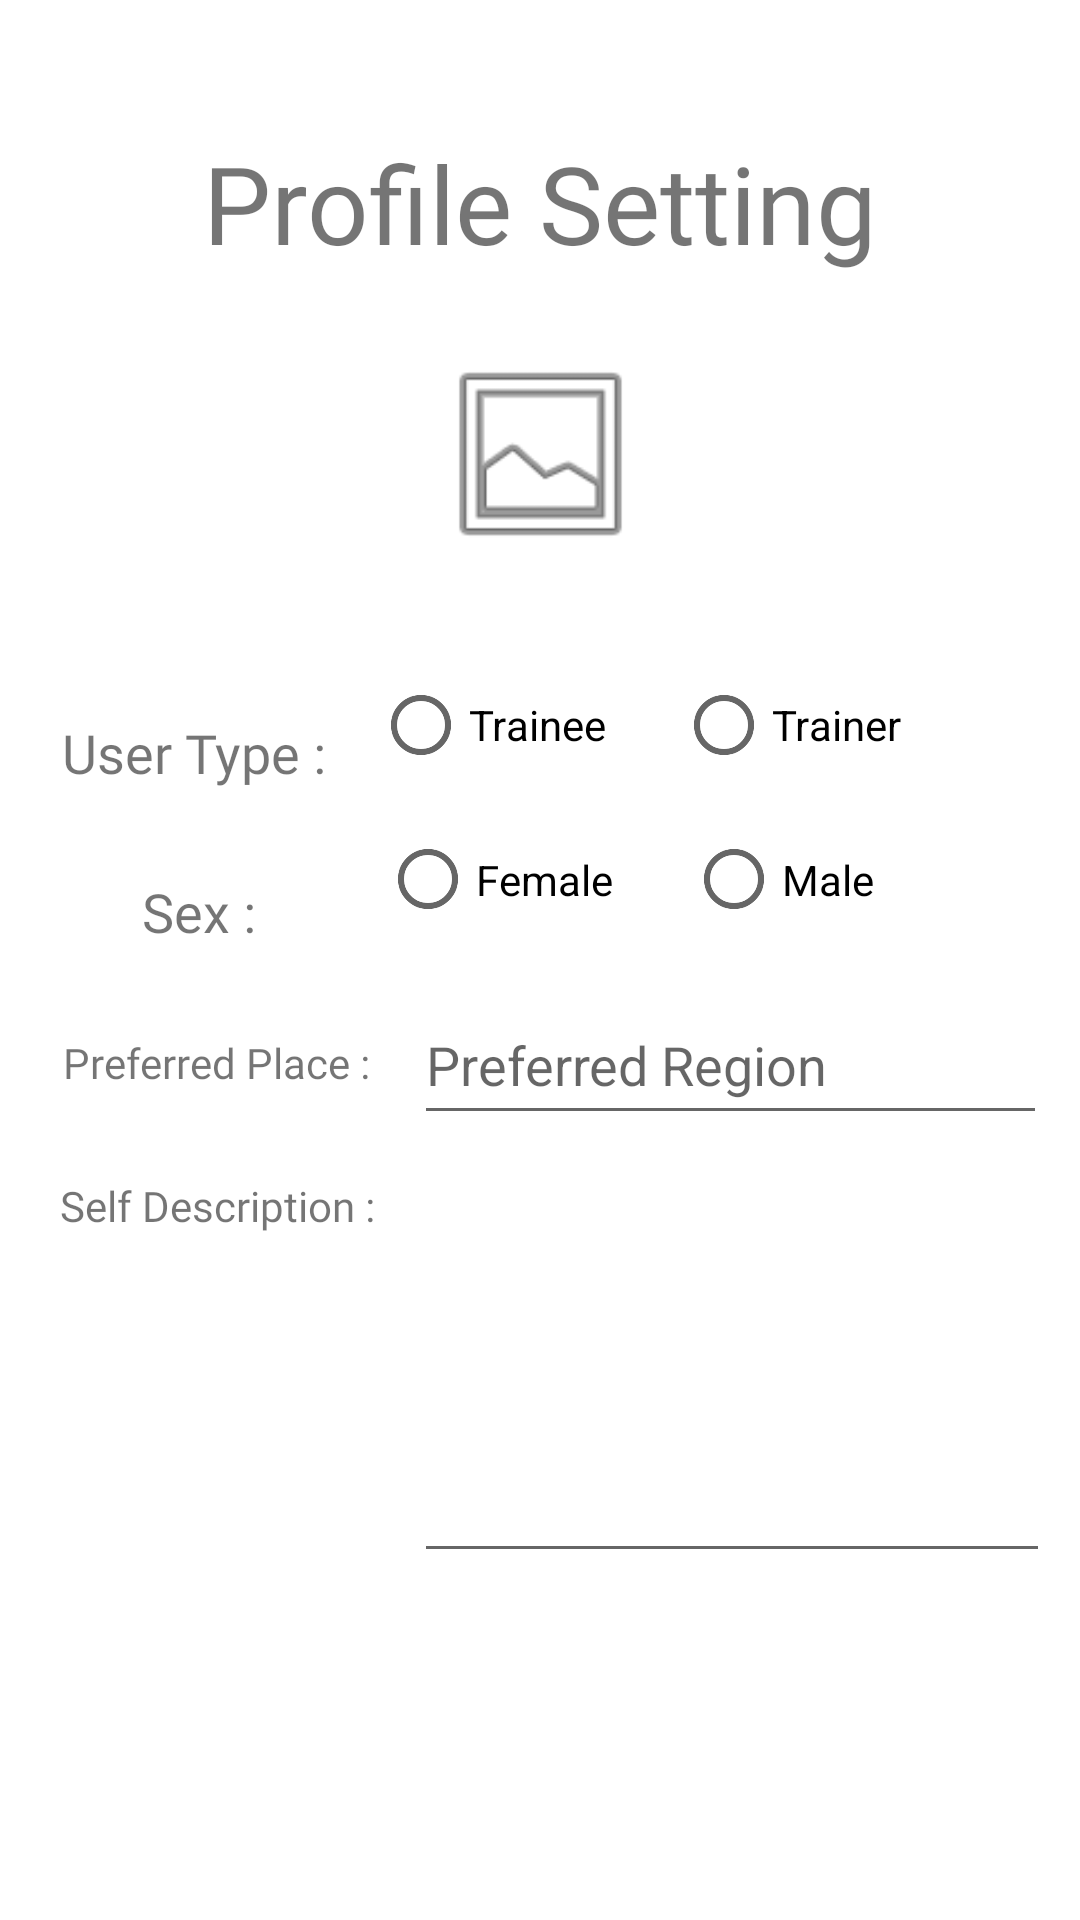

Icons on this 1080px×1920px Android screen, each with its box as box=[x1, y1, x2, y2]:
gallery: box=[459, 372, 622, 536]
